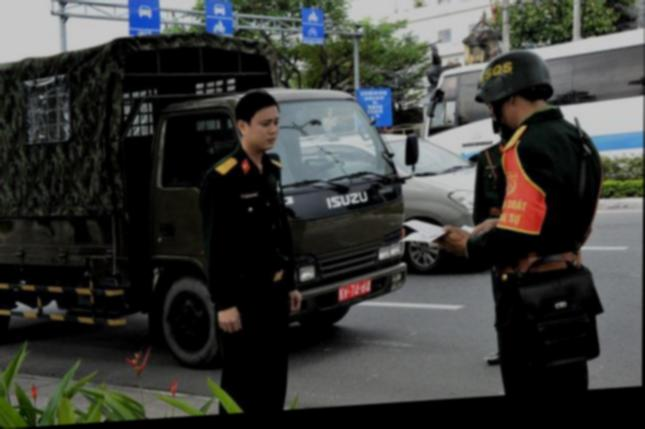License_Plate: (335, 277, 375, 305)
